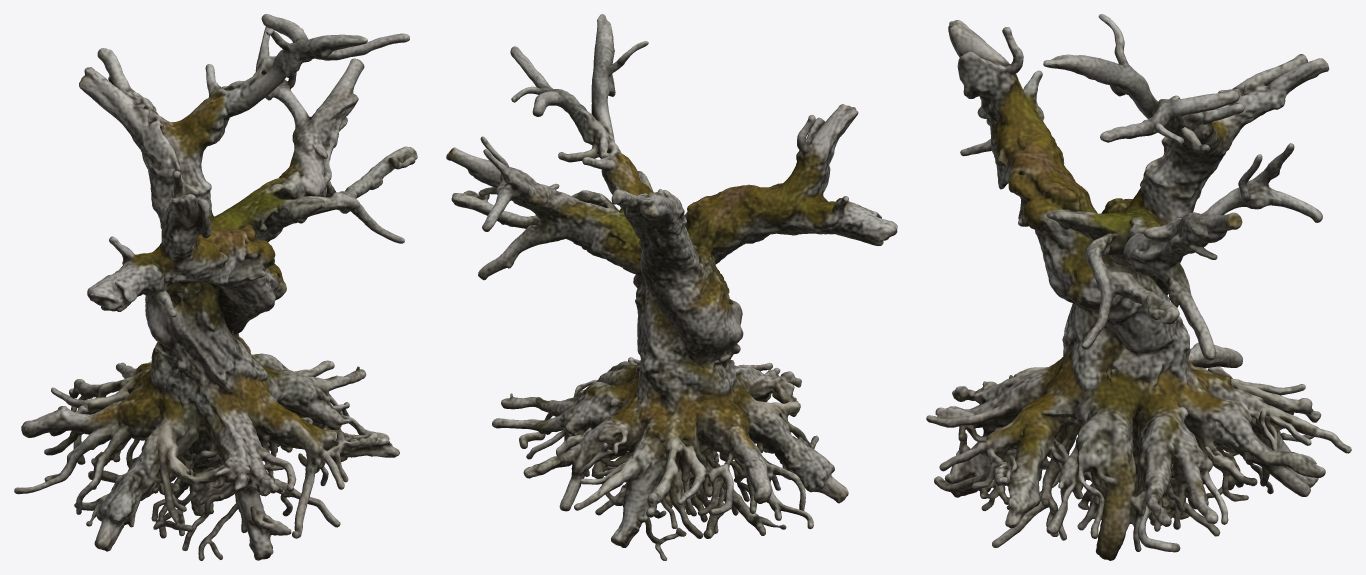
File: task-4897446.glb
3 renders of one model, left to right at view 1: azimuth 30°, elevation 25°; view 2: azimuth 150°, elevation 25°; view 3: azimuth 270°, elevation 25°, orthographic. The views are drawn at different scales.
Parts seen in each view (by area): view 1: world; view 2: world; view 3: world.
Part boxes in pixels (x1=…): world: x1=14, y1=14, x2=417, y2=560; world: x1=446, y1=14, x2=897, y2=560; world: x1=926, y1=14, x2=1351, y2=560.
Bounding box in the file's own units: 0.7928 × 0.9 × 0.653.
1 material, 1 textured.
